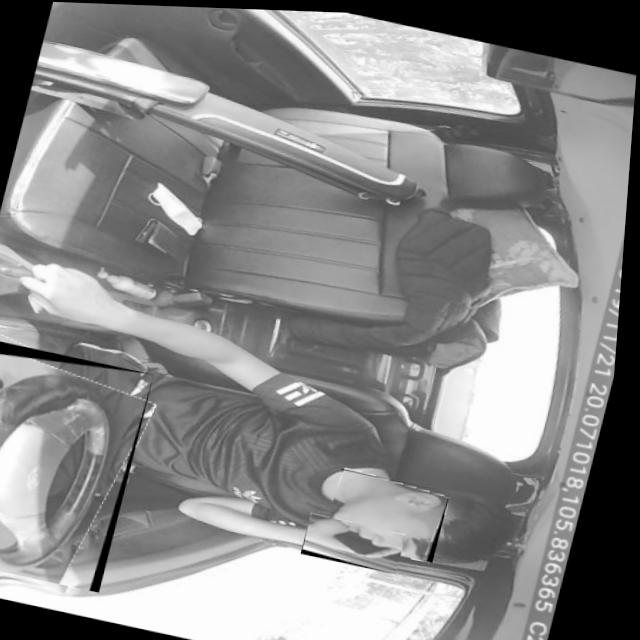phone: (329, 465, 458, 559), (307, 510, 414, 570)
wheel: (0, 334, 160, 592)
